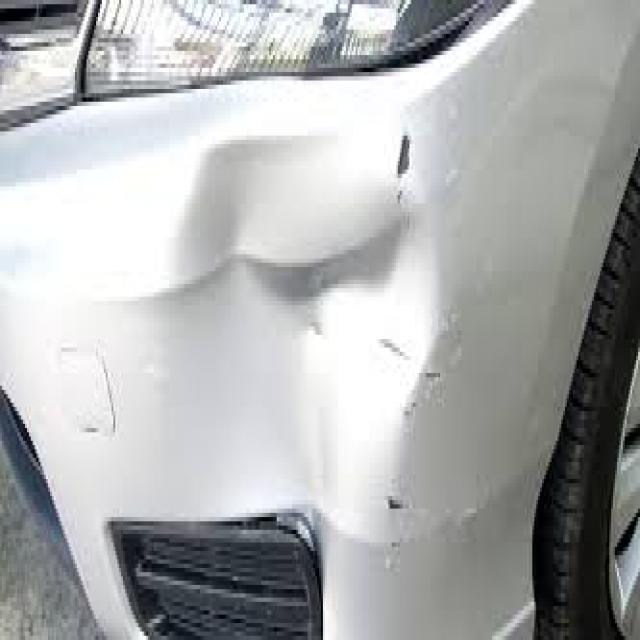minor: (144, 99, 448, 534)
